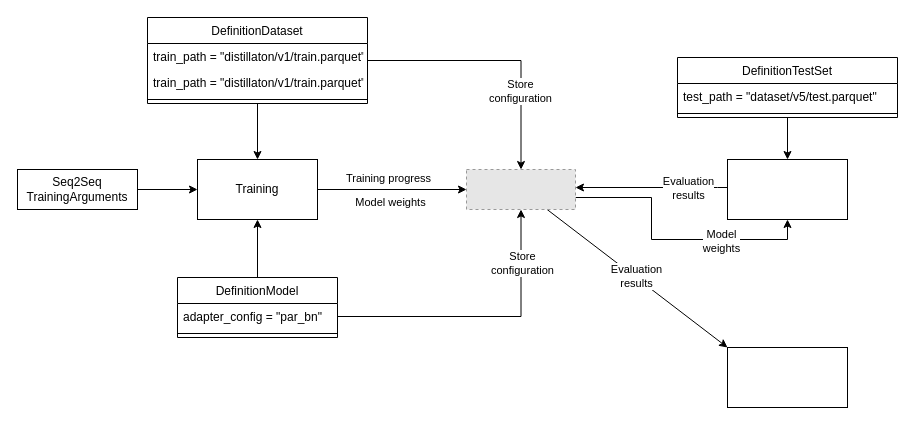
Image size: 915x425. Some labels were removed from this diagram. Grey dashed boxes stand in for pictures. The centre of each missing label's shape, as x and y in pixels:
Analysis: point 787,377
Evaluation: point 787,189
